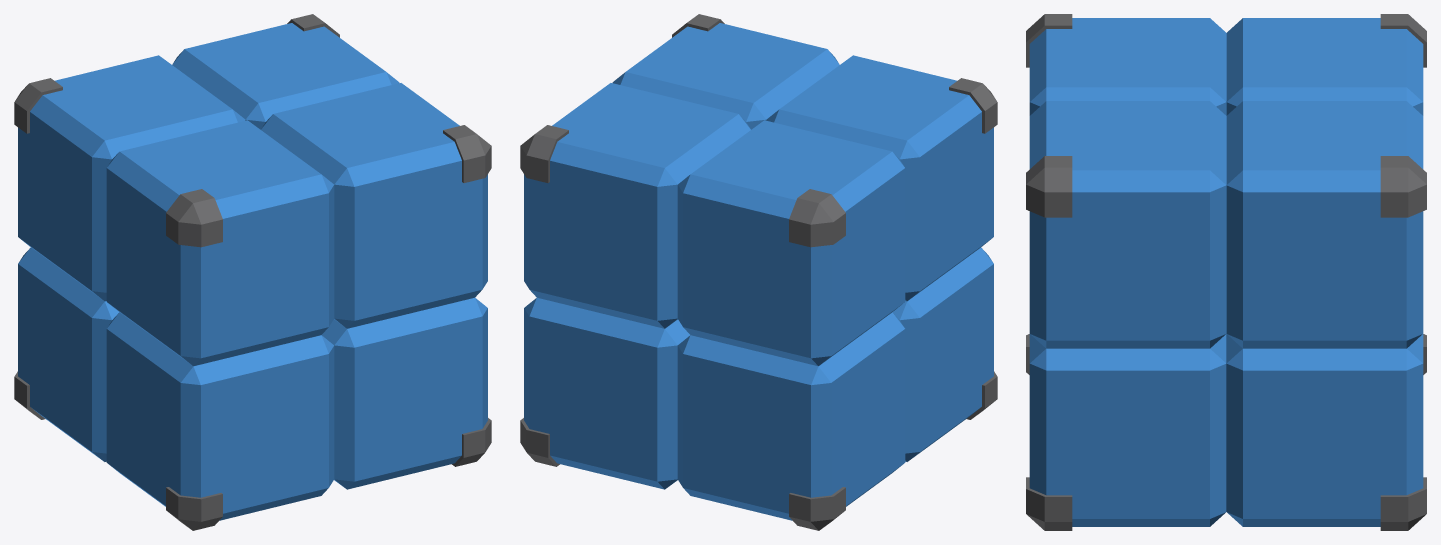
Rendered from Basic_Cube.fbx.
3 renders of one model, left to right at view 1: azimuth 30°, elevation 25°; view 2: azimuth 150°, elevation 25°; view 3: azimuth 270°, elevation 25°, orthographic. The views are drawn at different scales.
Parts seen in each view (by area): view 1: Cube_Piece_2, Cube_Piece_6, Cube_Piece_1, Cube_Piece_4, Cube_Piece_5, Cube_Piece_8, Cube_Piece_3; view 2: Cube_Piece_4, Cube_Piece_8, Cube_Piece_3, Cube_Piece_2, Cube_Piece_7, Cube_Piece_6, Cube_Piece_1; view 3: Cube_Piece_1, Cube_Piece_3, Cube_Piece_5, Cube_Piece_7, Cube_Piece_2, Cube_Piece_4.
Part boxes in pixels (x1,y1,x2,y2): Cube_Piece_2: (106, 120, 334, 366); Cube_Piece_6: (106, 312, 334, 530); Cube_Piece_1: (261, 83, 491, 328); Cube_Piece_4: (14, 55, 245, 301); Cube_Piece_5: (322, 297, 491, 489); Cube_Piece_8: (14, 247, 119, 461); Cube_Piece_3: (172, 14, 399, 129); Cube_Piece_4: (677, 120, 905, 366); Cube_Piece_8: (677, 312, 905, 530); Cube_Piece_3: (520, 83, 750, 328); Cube_Piece_2: (766, 55, 997, 301); Cube_Piece_7: (520, 297, 689, 489); Cube_Piece_6: (892, 247, 997, 461); Cube_Piece_1: (612, 14, 839, 129); Cube_Piece_1: (1026, 101, 1226, 348); Cube_Piece_3: (1226, 101, 1426, 348); Cube_Piece_5: (1026, 334, 1226, 530); Cube_Piece_7: (1226, 334, 1426, 530); Cube_Piece_2: (1026, 14, 1226, 115); Cube_Piece_4: (1226, 14, 1426, 115).
Bounding box in the file's own units: 204 × 204 × 204.
